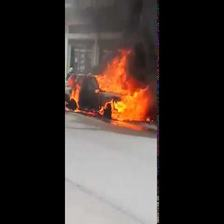fire: (66, 34, 158, 129)
